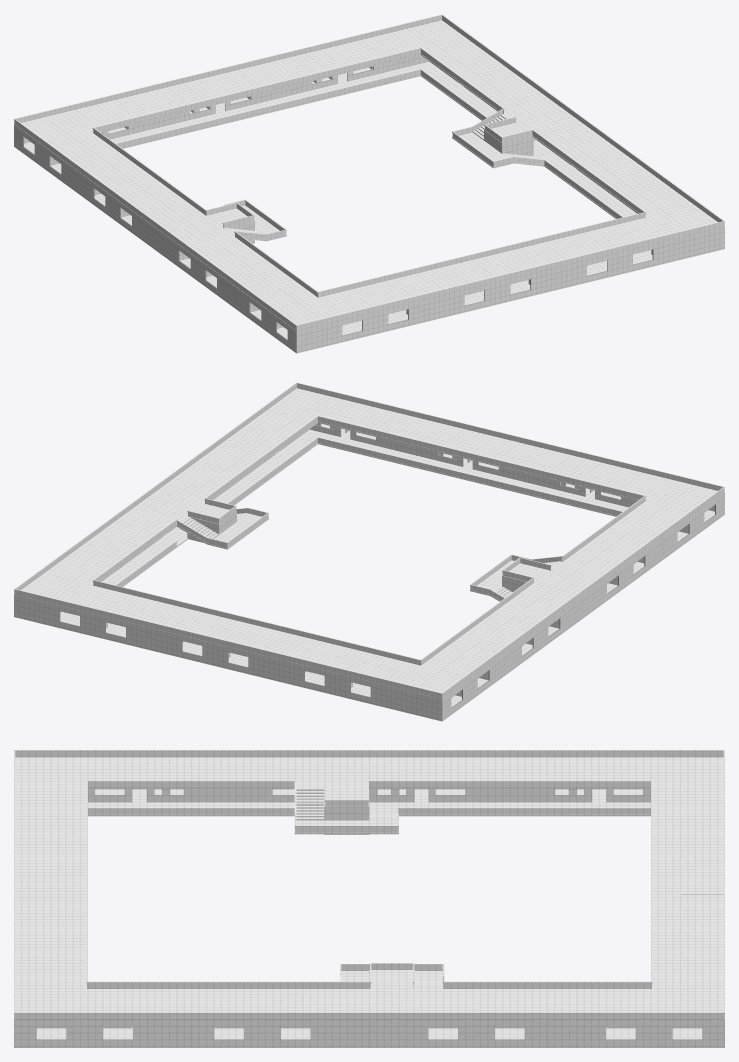
Rendered from InfinityBuild.glb.
The picture shows the model from 3 angles, top to bottom: view 1: azimuth 30°, elevation 25°; view 2: azimuth 150°, elevation 25°; view 3: azimuth 270°, elevation 25°; orthographic projection. The views are drawn at different scales.
Parts seen in each view (by area): view 1: CombineRoof, Combine.003; view 2: CombineRoof, Combine.003; view 3: CombineRoof, Combine.003.
Boxes of the visible parts, left/top/right/bottom form: CombineRoof: left=14, top=14, right=724, bottom=331; Combine.003: left=14, top=20, right=724, bottom=353; CombineRoof: left=14, top=382, right=724, bottom=699; Combine.003: left=14, top=388, right=724, bottom=721; CombineRoof: left=14, top=750, right=724, bottom=1019; Combine.003: left=14, top=757, right=724, bottom=1047.
Bounding box in the file's own units: 84 × 5.2 × 96.
Materials: 1 (1 with a texture image).
